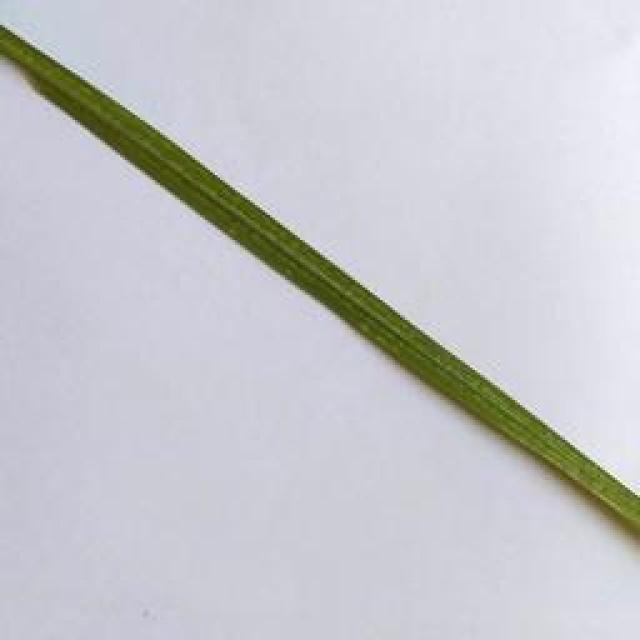Healthy-Plant: (3, 27, 564, 456)
